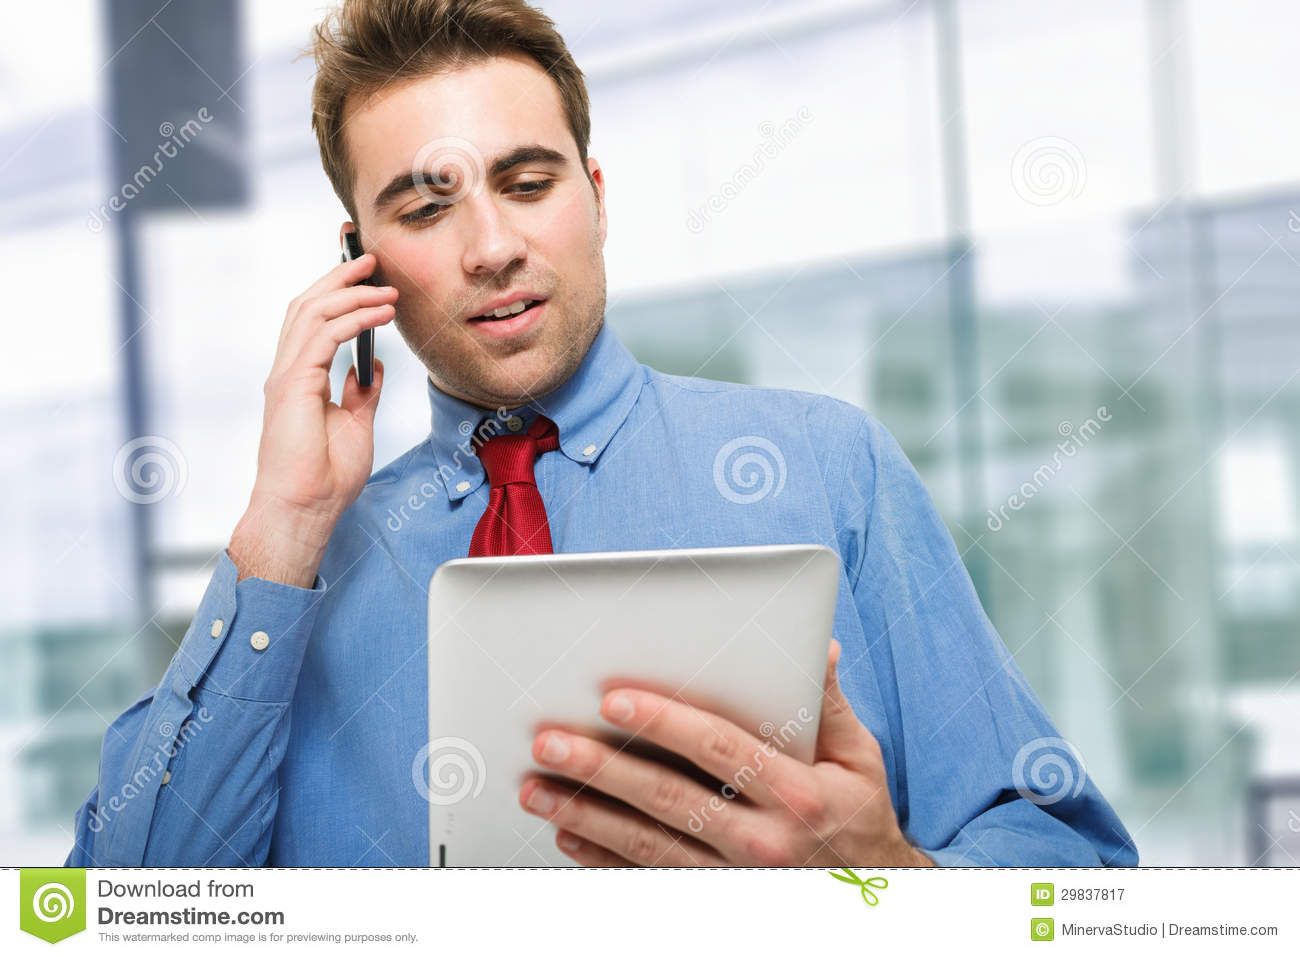phone: (330, 225, 384, 400)
talk: (247, 129, 578, 507)
